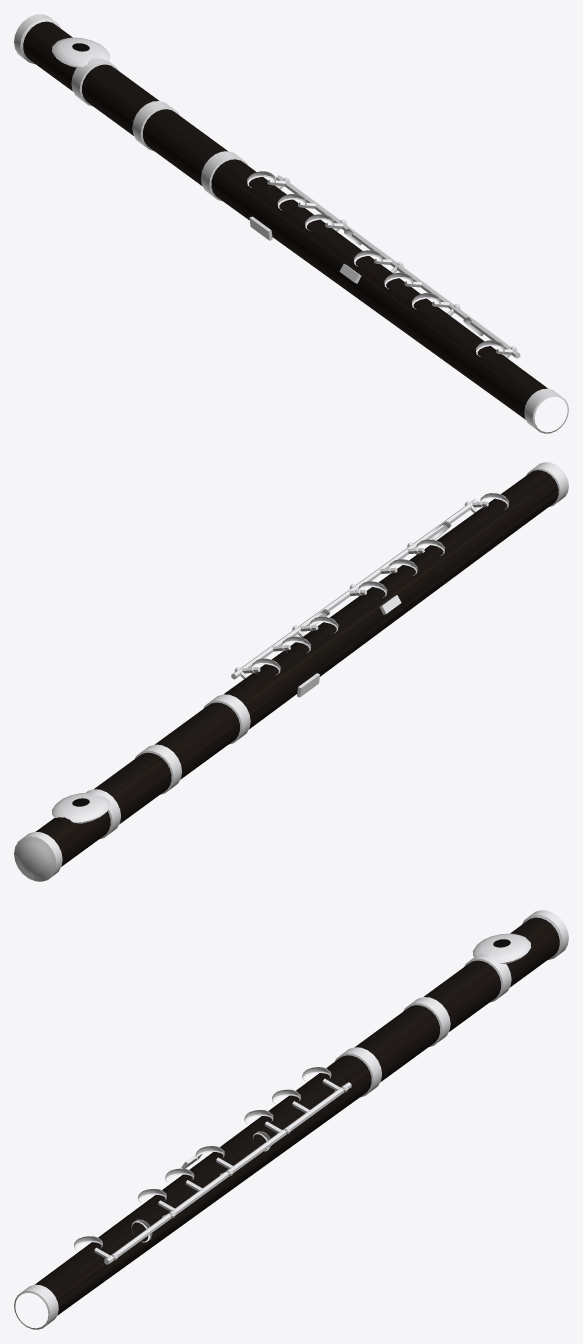
File: piccolo.glb
3 views of the same model, one above another, from view 1: azimuth 30°, elevation 25°; view 2: azimuth 150°, elevation 25°; view 3: azimuth 330°, elevation 25° (orthographic).
Parts seen in each view (by area): view 1: piccolo_grenadilla, piccolo_silver; view 2: piccolo_grenadilla, piccolo_silver; view 3: piccolo_grenadilla, piccolo_silver.
Boxes of the visible parts, x1,y1,x2,y2 form: piccolo_grenadilla: [23, 21, 547, 419]; piccolo_silver: [14, 14, 568, 433]; piccolo_grenadilla: [36, 470, 558, 866]; piccolo_silver: [14, 462, 568, 881]; piccolo_grenadilla: [35, 917, 559, 1315]; piccolo_silver: [14, 910, 568, 1329].
Size of the model in its own units: 0.0202 by 0.0185 by 0.3405.
Materials: 3 (1 with a texture image).
